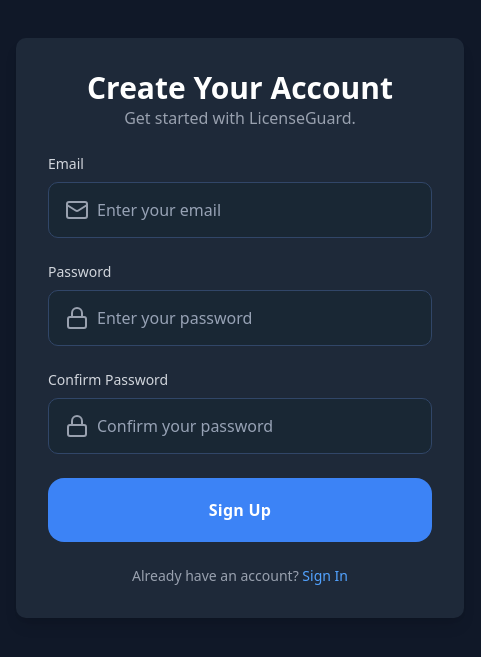
Scenario: SignUpPage Component › Empty Fields Validation › should handle empty email field
In the password field with placeholder "Enter your password": (260, 318) [89, 291, 431, 345], type "password123"
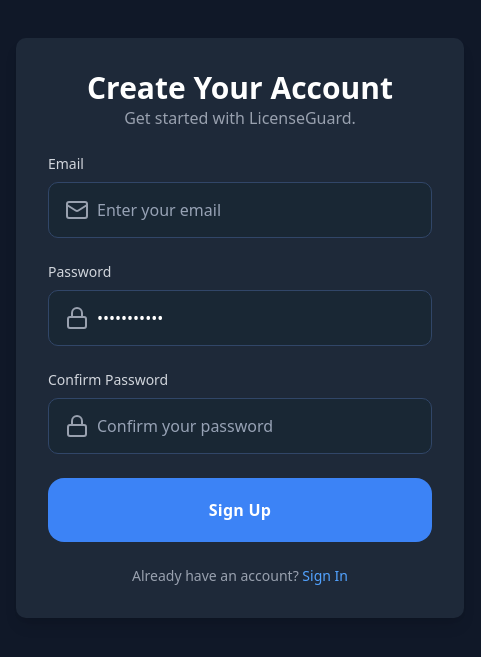
In the password field with placeholder "Confirm your password": (260, 426) [89, 399, 431, 453], type "password123"
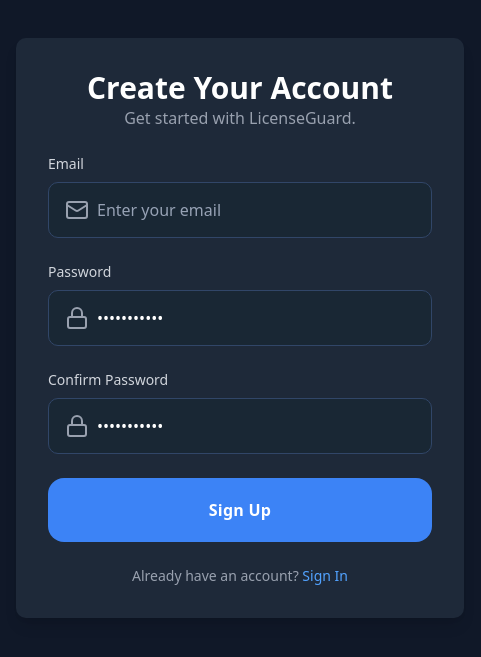
Click the button "Sign Up": (240, 510) [48, 478, 432, 542]
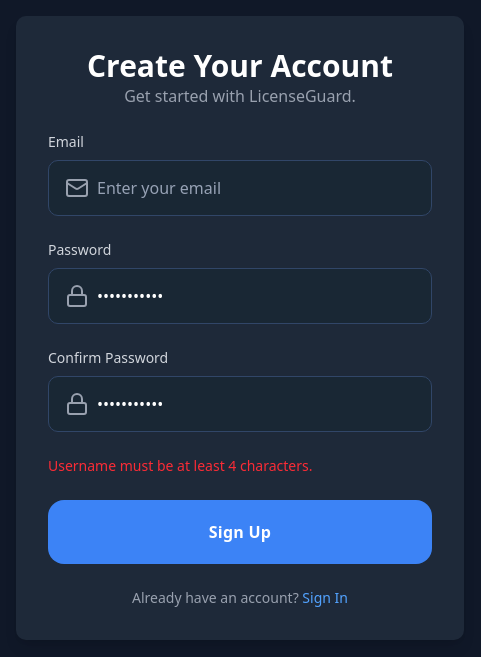
Check: the text "Username must be at least 4 characters." is shown, box [48, 456, 312, 475]
